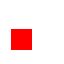square: (11, 29, 31, 49)
